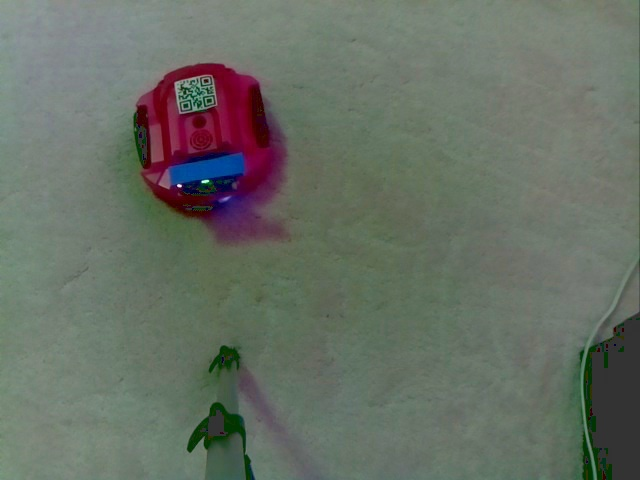board: (160, 148, 249, 198)
chassis: (132, 60, 273, 210)
